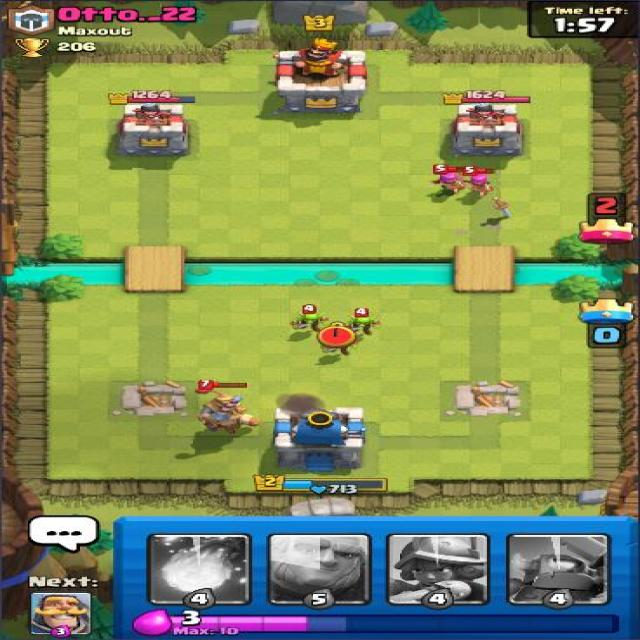Enemy-Archer: (430, 164, 466, 194), (462, 166, 496, 196)
Enemy-Goblin: (318, 326, 362, 357), (289, 303, 330, 332), (342, 307, 381, 337)
Enemy-Prince: (193, 378, 259, 436)
